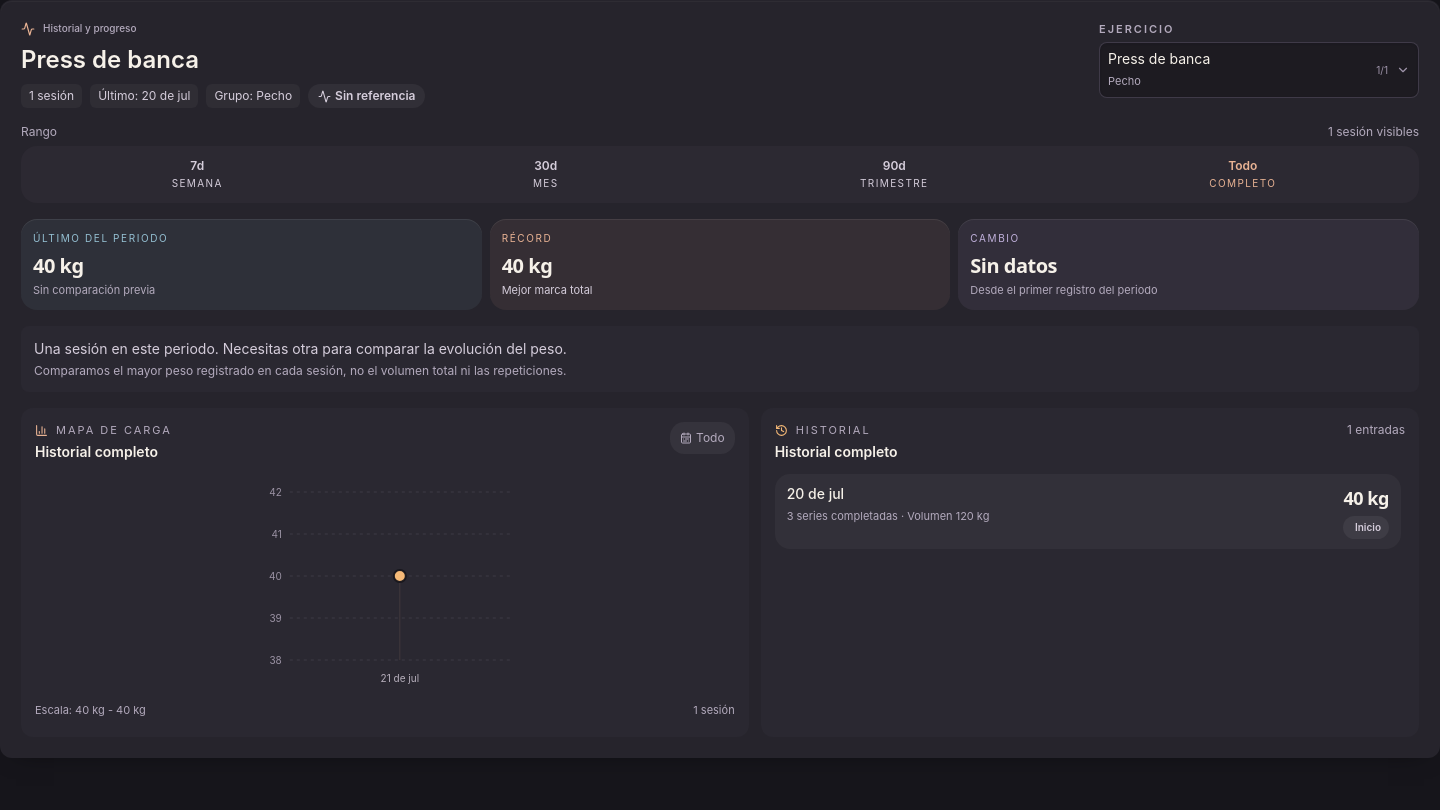
Test: ExerciseProgressPanel interpretation › identifies a latest all-time weight outside an empty selected period
This screenshot has width=1440, height=810.
Click the button "7d Semana" at (197, 174), box top-left (25, 150), bottom-right (370, 199)
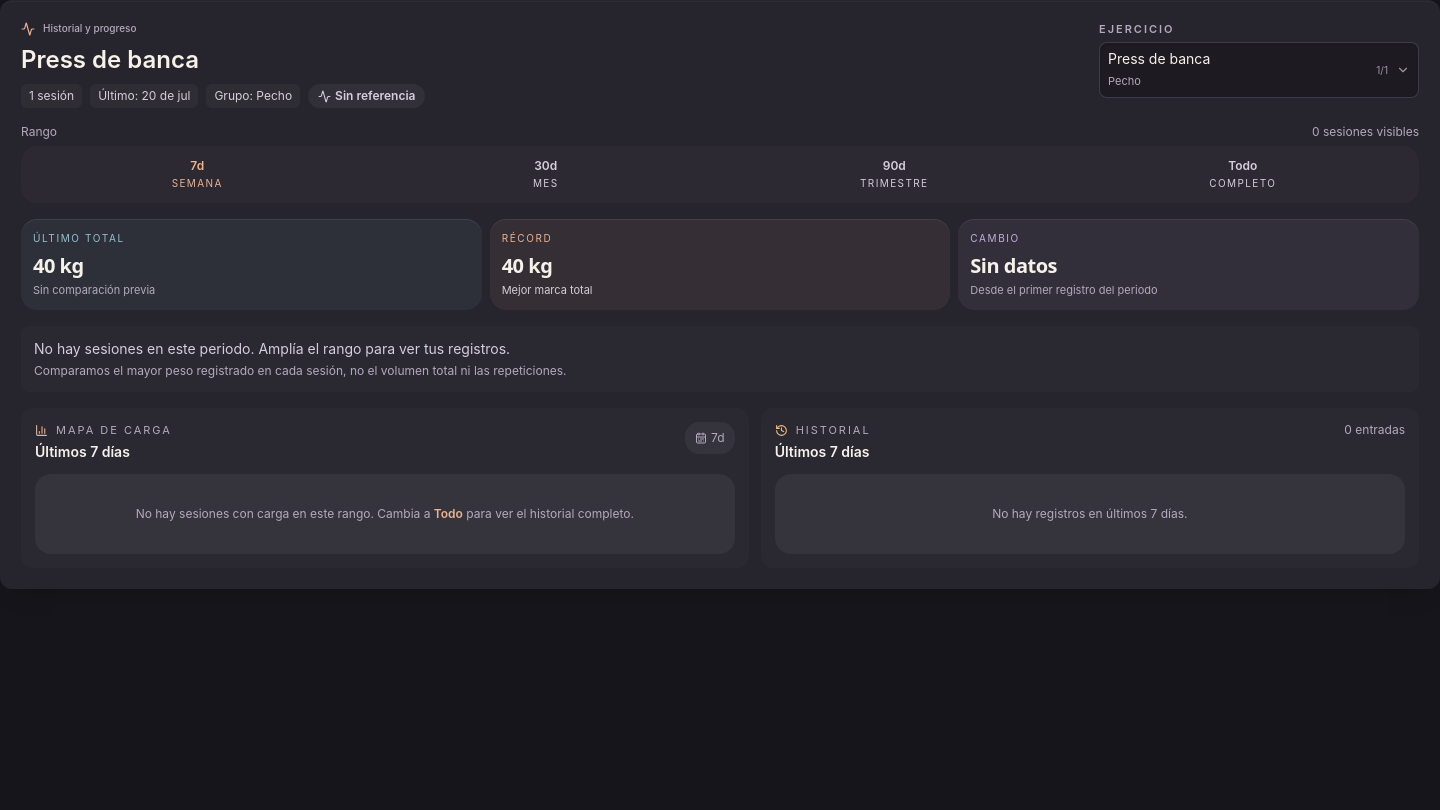
Result: the text "Último total" is shown at top-left (33, 232), bottom-right (125, 244)
Result: the text "No hay sesiones en este periodo. Amplía el rango para ver tus registros." is shown at top-left (34, 340), bottom-right (510, 357)
